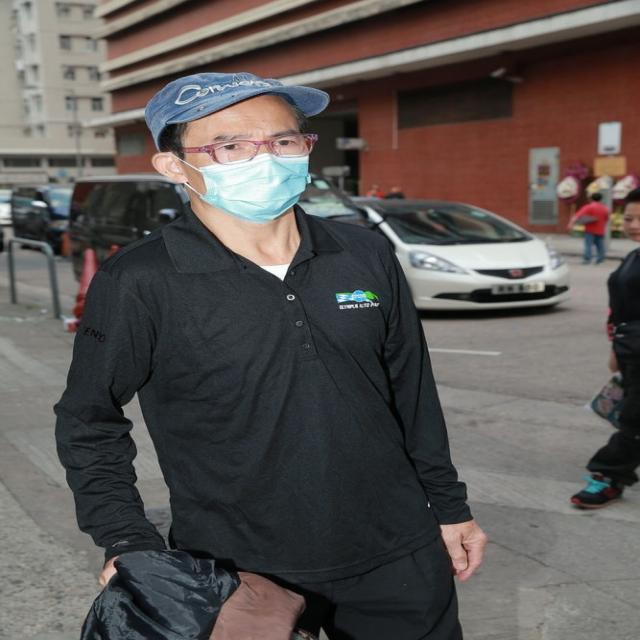mask: (190, 89, 304, 218), (624, 202, 639, 244)
